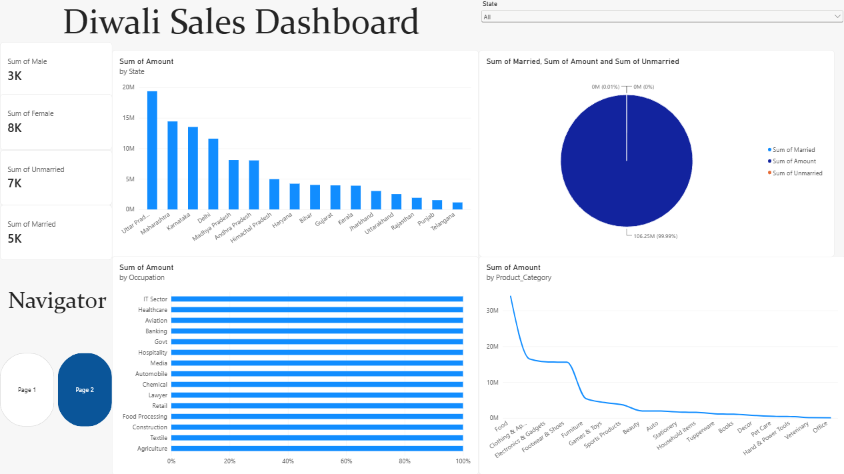

The dashboard page shown, as its layout file describes it:
{"tool":"powerbi","page":{"name":"Page 2","canvas":[1920,1080],"ordinal":1},"visuals":[{"type":"textbox","box":[10,0,1077.5,112.5],"z":0},{"type":"slicer","fields":{"Values":["Diwali Sales Data.State"]},"box":[1087.5,0,832.5,137.5],"z":1000},{"type":"cardVisual","fields":{"Data":["Sum(Diwali Sales Data.Male)"]},"box":[0,95,255,127.5],"z":2000},{"type":"cardVisual","fields":{"Data":["Sum(Diwali Sales Data.Female)"]},"box":[0,212.5,255,127.5],"z":3000},{"type":"cardVisual","fields":{"Data":["Sum(Diwali Sales Data.Married)"]},"box":[0,465,255,125],"z":4000},{"type":"cardVisual","fields":{"Data":["Sum(Diwali Sales Data.Unmarried)"]},"box":[0,340,255,125],"z":5000},{"type":"lineChart","fields":{"Category":["Diwali Sales Data.Product_Category"],"Y":["Sum(Diwali Sales Data.Amount)"]},"box":[1087.5,582.5,832.5,497.5],"z":6000},{"type":"pieChart","fields":{"Y":["Sum(Diwali Sales Data.Married)","Sum(Diwali Sales Data.Amount)","Sum(Diwali Sales Data.Unmarried)"]},"box":[1087.5,112.5,807.5,470],"z":7000},{"type":"columnChart","fields":{"Category":["Diwali Sales Data.State"],"Y":["Sum(Diwali Sales Data.Amount)"]},"box":[255,112.5,832.5,477.5],"z":8000},{"type":"hundredPercentStackedBarChart","fields":{"Category":["Diwali Sales Data.Occupation"],"Y":["Sum(Diwali Sales Data.Amount)"]},"box":[255,582.5,832.5,497.5],"z":9000},{"type":"textbox","box":[17.5,650,237.5,95],"z":12000},{"type":"pageNavigator","box":[0,802.5,255,167.5],"z":12002}]}

Visuals, with their boxes in screenshot pixels (x1, y1, x2, y2), scaled from the page's 1920x1080 canvas onto the 844x474 screenshot:
textbox: <box>4,0,478,49</box>
slicer - Diwali Sales Data.State: <box>478,0,843,60</box>
cardVisual - Sum(Diwali Sales Data.Male): <box>0,42,112,98</box>
cardVisual - Sum(Diwali Sales Data.Female): <box>0,93,112,149</box>
cardVisual - Sum(Diwali Sales Data.Married): <box>0,204,112,259</box>
cardVisual - Sum(Diwali Sales Data.Unmarried): <box>0,149,112,204</box>
lineChart - Diwali Sales Data.Product_Category x Sum(Diwali Sales Data.Amount): <box>478,256,843,473</box>
pieChart - Sum(Diwali Sales Data.Married) x Sum(Diwali Sales Data.Amount): <box>478,49,833,256</box>
columnChart - Diwali Sales Data.State x Sum(Diwali Sales Data.Amount): <box>112,49,478,259</box>
hundredPercentStackedBarChart - Diwali Sales Data.Occupation x Sum(Diwali Sales Data.Amount): <box>112,256,478,473</box>
textbox: <box>8,285,112,327</box>
pageNavigator: <box>0,352,112,426</box>
